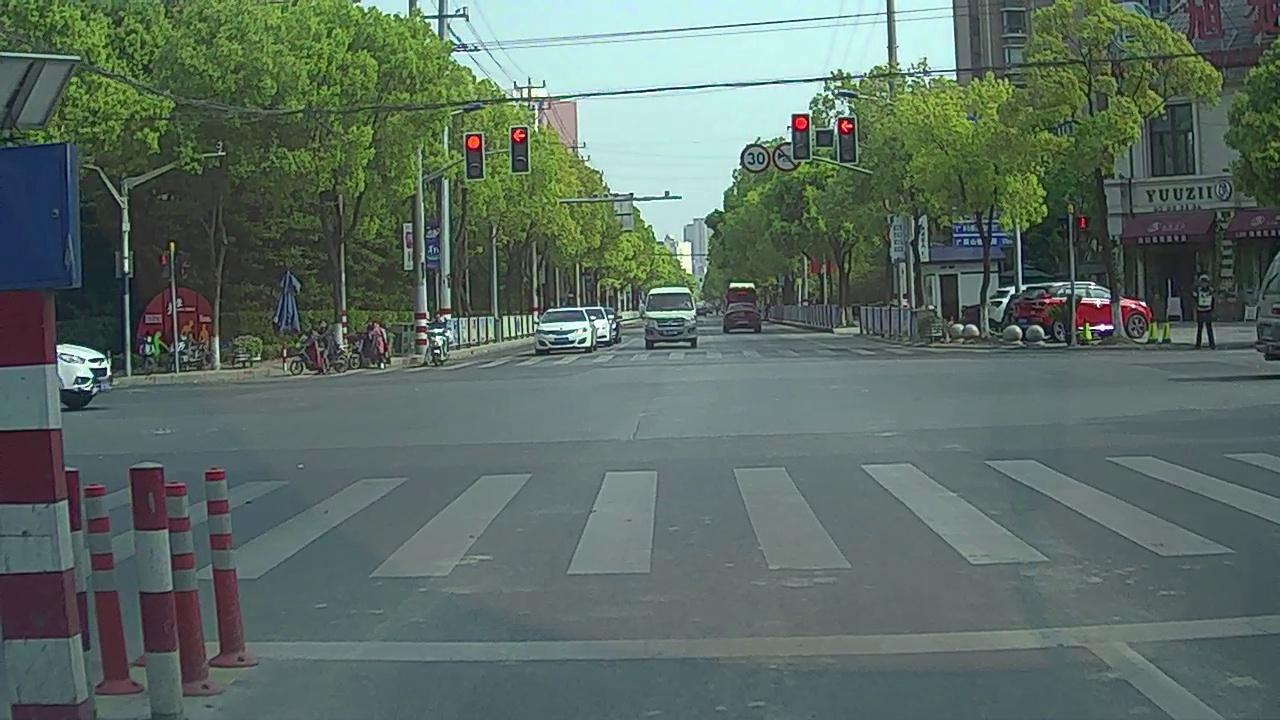traffic_light: (464, 132, 485, 177), (511, 126, 529, 173), (838, 117, 856, 162), (793, 114, 810, 161)
